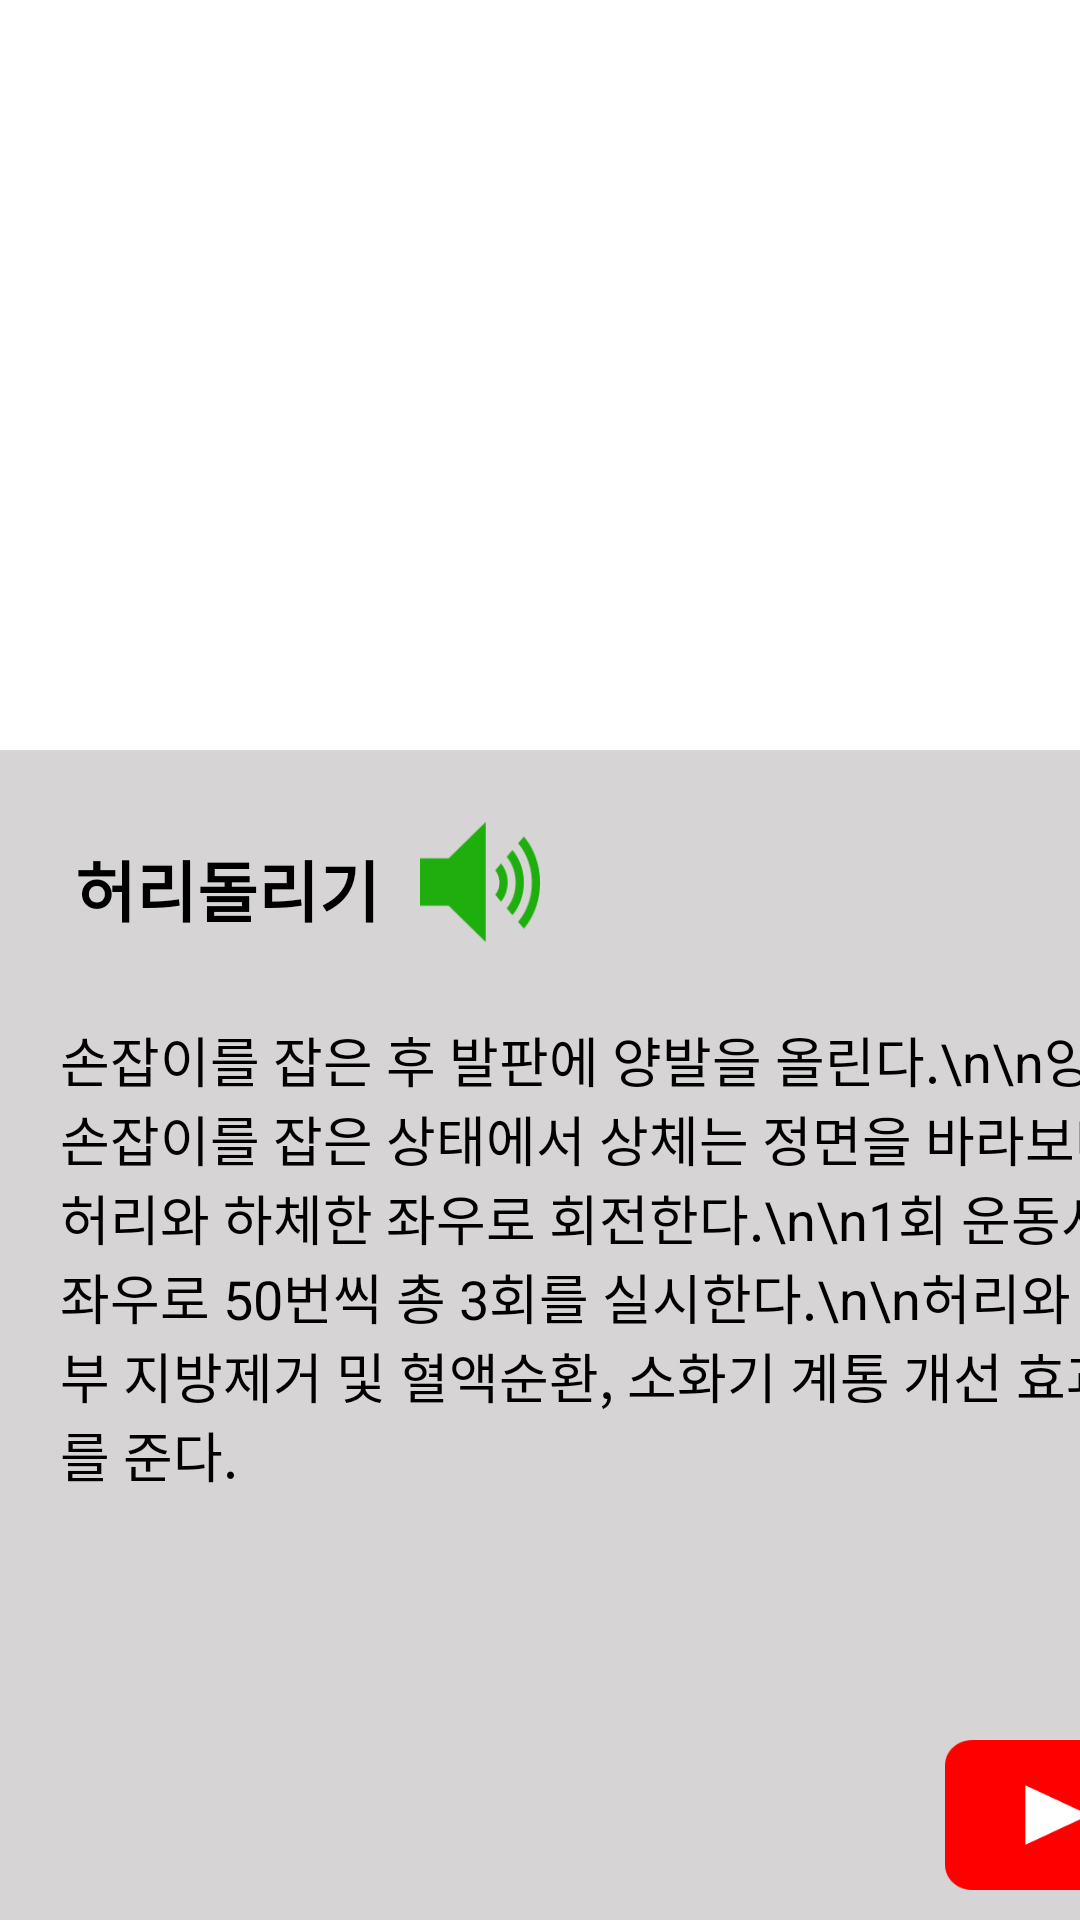

Named icons in this screenshot (1080x1920) and their centers, (x=x, y=y):
sound: (x=480, y=882)
